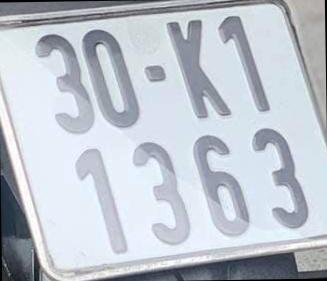-: (142, 63, 168, 83)
0: (83, 25, 140, 127)
1: (76, 148, 130, 255), (217, 13, 273, 114)
3: (34, 33, 95, 134), (132, 140, 190, 244), (251, 126, 310, 228)
6: (193, 133, 253, 236)
K: (167, 17, 232, 121)
